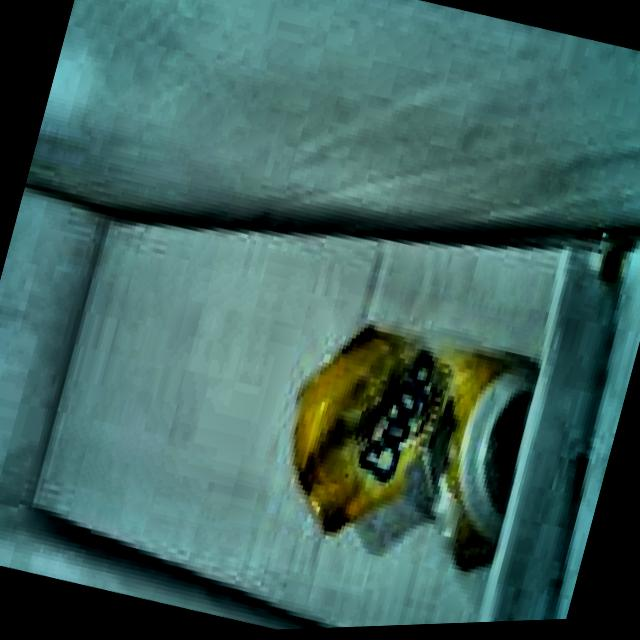Cans: (252, 273, 554, 591)
